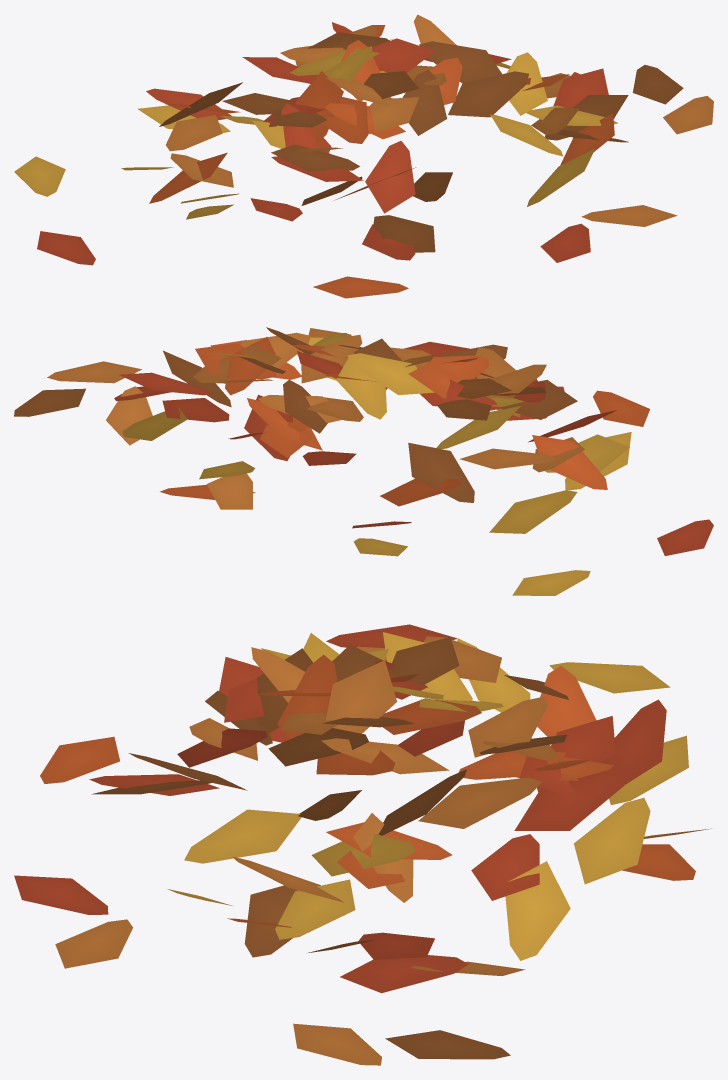
The model's file is item_ic_leafpile.glb.
3 views of the same model, one above another, from view 1: azimuth 30°, elevation 25°; view 2: azimuth 150°, elevation 25°; view 3: azimuth 270°, elevation 25° (orthographic). The views are drawn at different scales.
Visible parts, largest first — view 1: item_ic_leafpile_main; view 2: item_ic_leafpile_main; view 3: item_ic_leafpile_main.
Part boxes in pixels (x1,y1,x2,y2): item_ic_leafpile_main: [14, 14, 713, 298]; item_ic_leafpile_main: [14, 327, 713, 595]; item_ic_leafpile_main: [14, 624, 711, 1065].
Size of the model in its own units: 0.5834 by 0.0968 by 0.3912.
